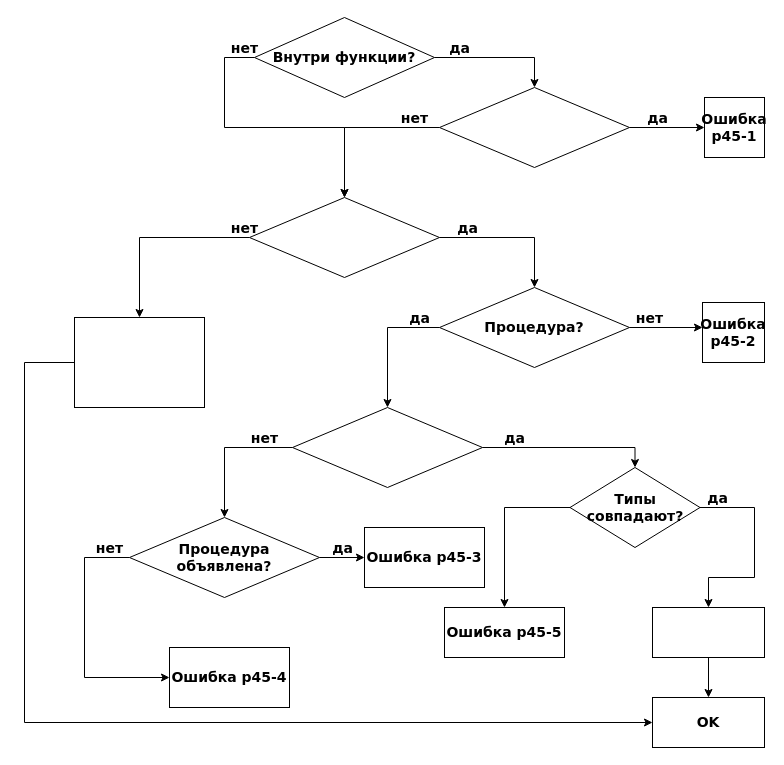
Image size: 784x765. Some labels were removed from this diagram. The shapes that lost their labels are listed below. From the top down, each one's centre as x and y in pixels, then its label:
At point (534, 127): "Аргумент функции?".
At point (344, 237): "Глобальное имя?".
At point (139, 362): "Добавить глобальное имя name, с флагами PROC |USED, и арностью COUNT".
At point (387, 447): "Арности совпадают?".
At point (708, 632): "Установить флаг USED".
